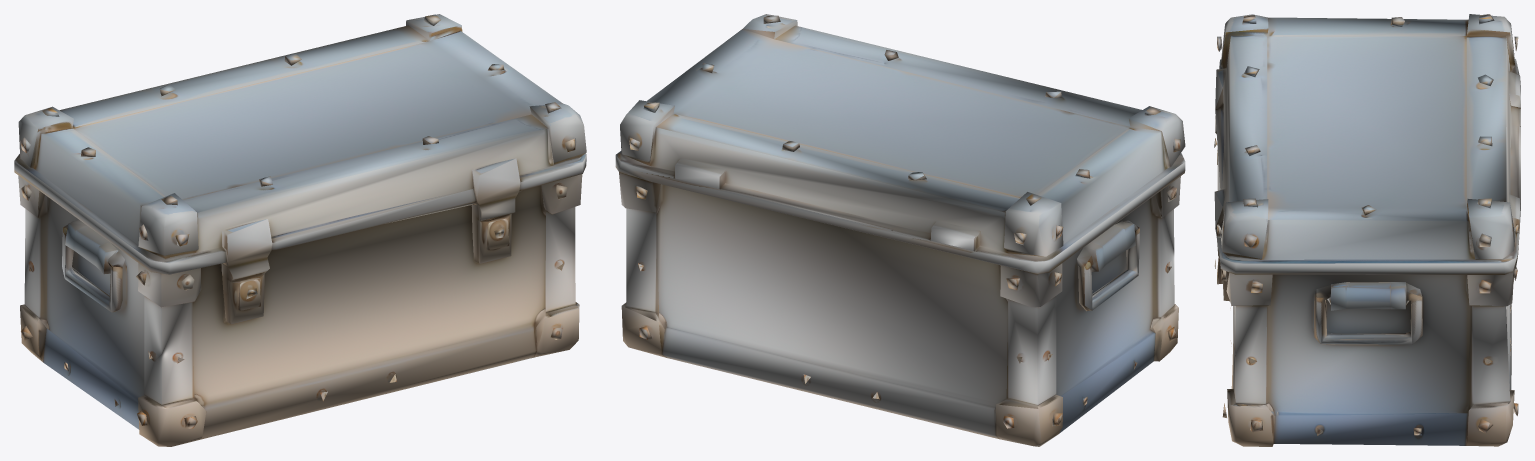
File: MetalBox.fbx
3 renders of one model, left to right at view 1: azimuth 30°, elevation 25°; view 2: azimuth 150°, elevation 25°; view 3: azimuth 270°, elevation 25°, orthographic.
Visible parts, largest first — view 1: texture_pbr_v128; view 2: texture_pbr_v128; view 3: texture_pbr_v128.
Boxes of the visible parts, x1=… form: texture_pbr_v128: x1=14, y1=14, x2=586, y2=446; texture_pbr_v128: x1=615, y1=14, x2=1185, y2=446; texture_pbr_v128: x1=1214, y1=14, x2=1520, y2=446.
Bounding box in the file's own units: 99.52 × 53.2 × 61.1.
Materials: 1 (1 with a texture image).
